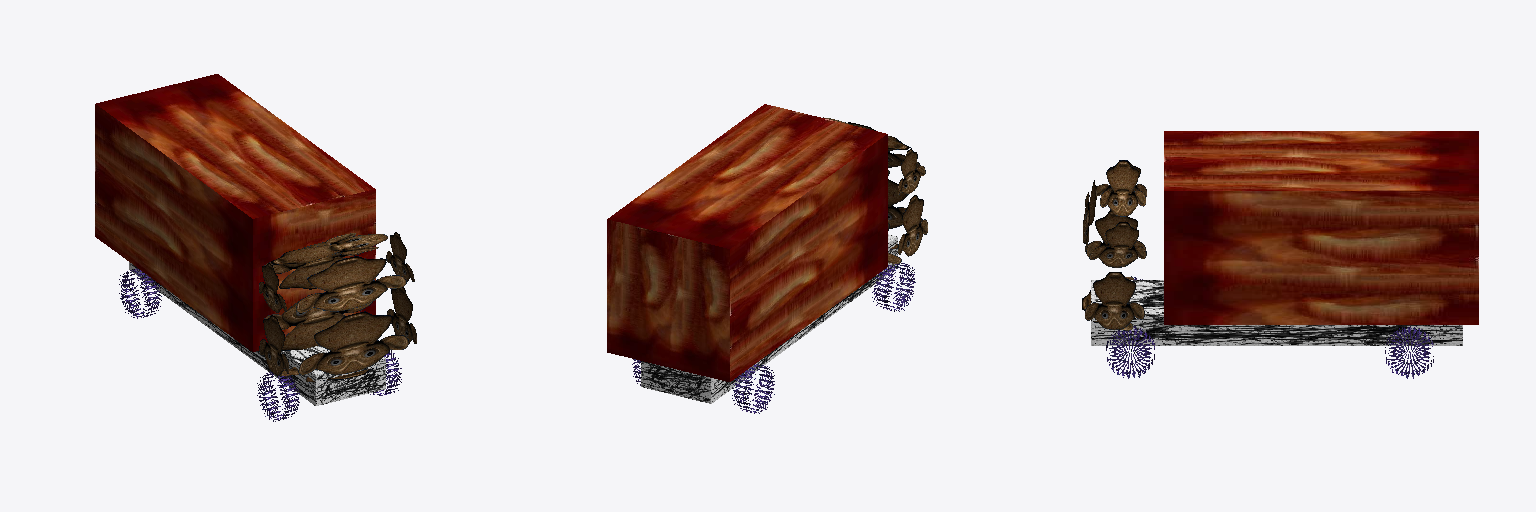
The picture shows the model from 3 angles: view 1: azimuth 30°, elevation 25°; view 2: azimuth 150°, elevation 25°; view 3: azimuth 270°, elevation 25°; orthographic projection.
Visible parts, largest first — view 1: Cube.001, Cube, Cube.002, Cylinder.003, Cylinder.002; view 2: Cube.001, Cube.002, Cube, Cylinder.003, Cylinder.002; view 3: Cube.001, Cube.002, Cube, Cylinder.001, Cylinder.
Boxes of the visible parts, x1,y1,x2,y2 form: Cube.001: [95, 74, 375, 351]; Cube: [259, 232, 416, 382]; Cube.002: [129, 262, 385, 405]; Cylinder.003: [257, 372, 299, 421]; Cylinder.002: [119, 268, 161, 318]; Cube.001: [607, 104, 887, 381]; Cube.002: [641, 234, 897, 403]; Cube: [823, 117, 927, 263]; Cylinder.003: [872, 263, 915, 311]; Cylinder.002: [732, 364, 774, 413]; Cube.001: [1164, 131, 1478, 324]; Cube.002: [1091, 280, 1462, 345]; Cube: [1082, 160, 1146, 330]; Cylinder.001: [1385, 326, 1433, 378]; Cylinder: [1106, 326, 1154, 378].
Bounding box in the file's own units: 2.75 × 3.92 × 7.48.
4 materials, 4 textured.